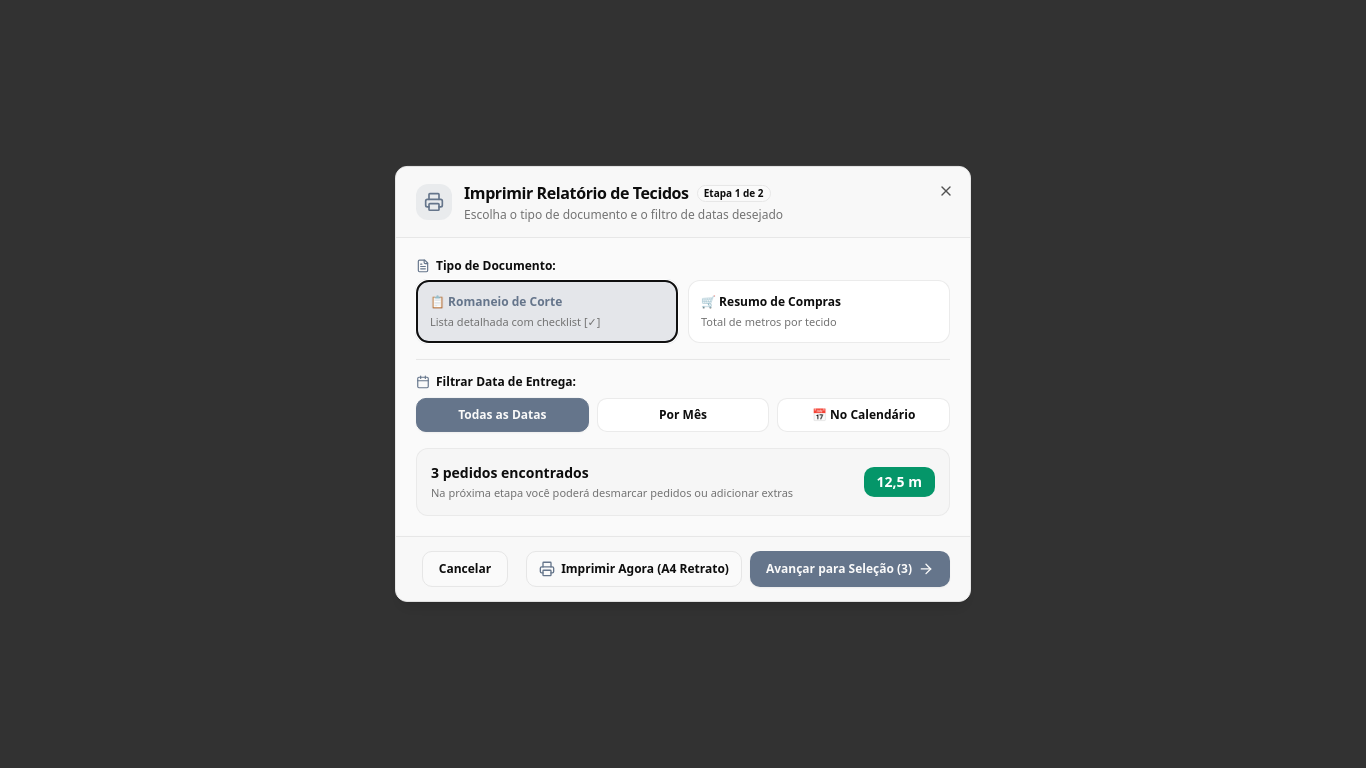
ModalImpressaoTecidos & Helpers › Renderização e Fluxo do ModalImpressaoTecidos › deve avançar para a Etapa 2 e exibir os pedidos com checkboxes pré-marcados
// Clicar em "Avançar para Seleção"
Click the button "Avançar para Seleção (3)" at (850,569), box [750,551,950,587]
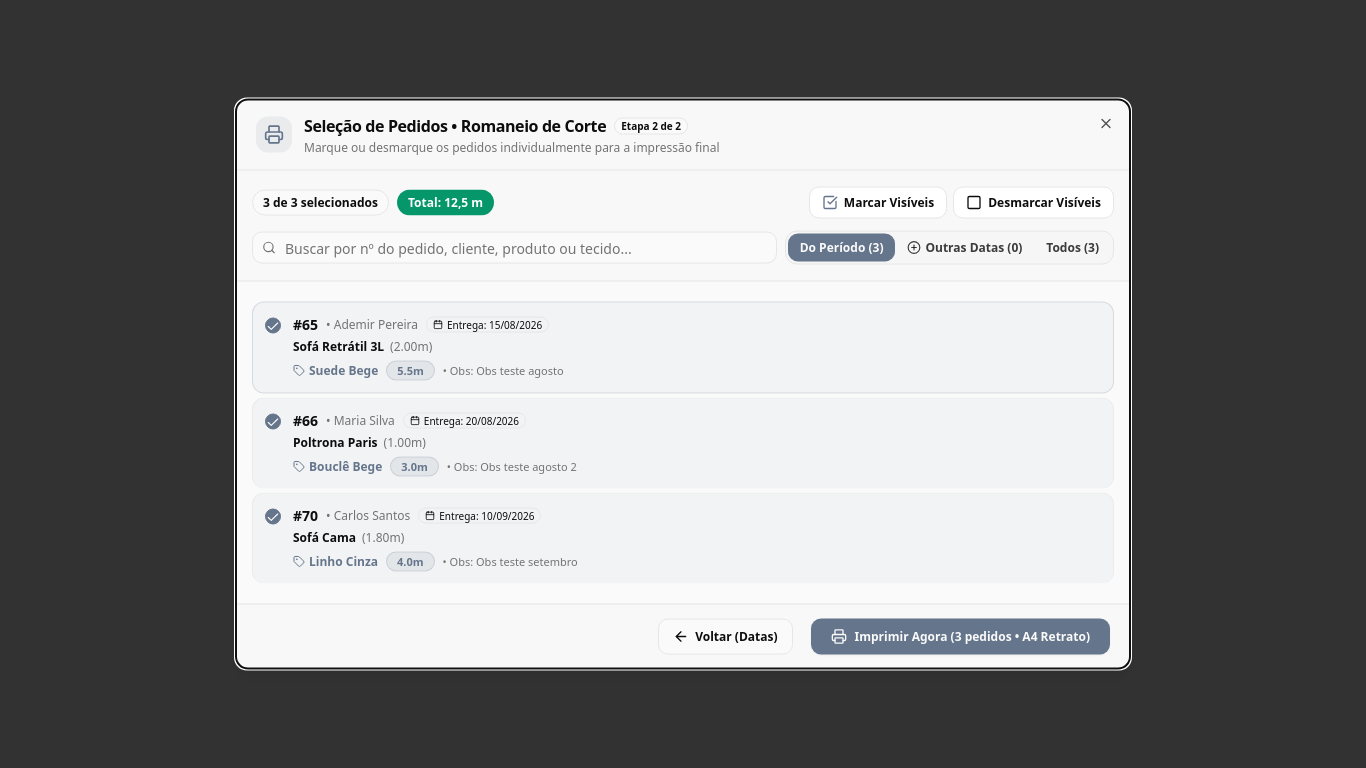
Now the heading "Seleção de Pedidos • Romaneio de Corte" is shown, box [304,114,606,138]
Now the text "#65" is shown, box [293,314,318,334]
Now the text "#66" is shown, box [293,410,318,430]
